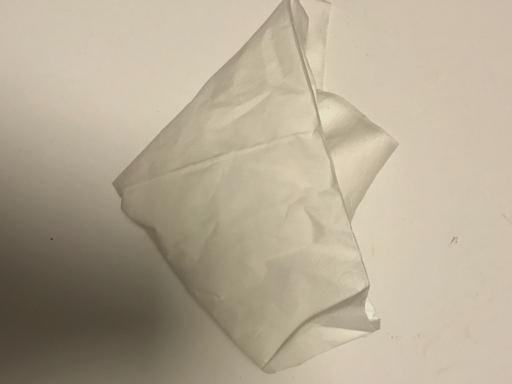trash: (113, 4, 397, 372)
